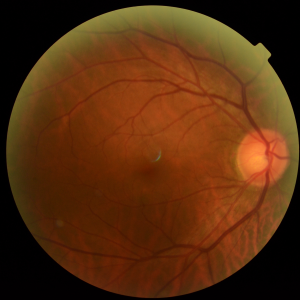glaucoma: (111, 97, 286, 203)
